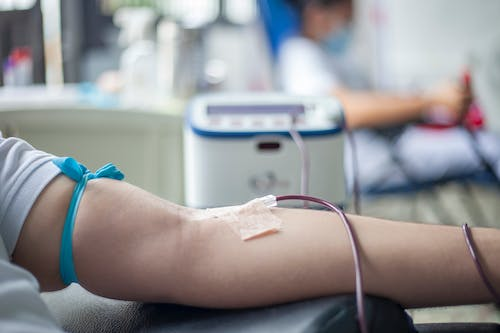blood: (275, 193, 370, 333), (460, 222, 500, 313)
